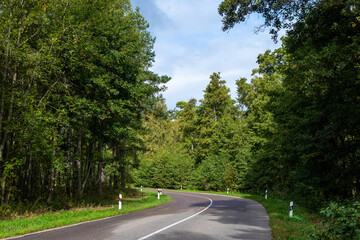leftTrun: (146, 184, 254, 240)
